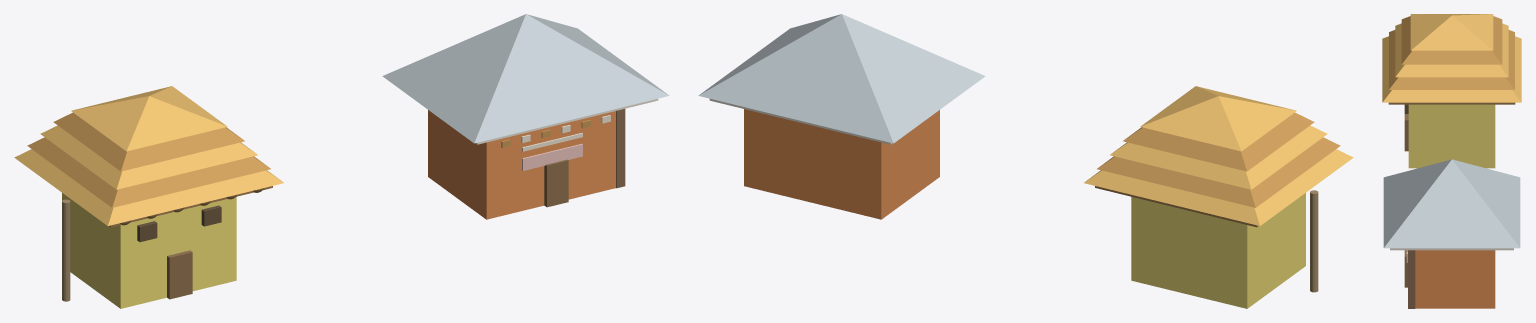
File: CasasCasilla52y69.glb
3 renders of one model, left to right at view 1: azimuth 30°, elevation 25°; view 2: azimuth 150°, elevation 25°; view 3: azimuth 270°, elevation 25°, orthographic. The views are drawn at different scales.
Parts seen in each view (by area): view 1: Casa2_Techo, Casa1_Paredes, Casa2_Paredes, Casa1_Techo_Cumbrera, Casa1_Techo_Capa0, Casa1_Techo_Capa1, Casa1_Techo_Capa2, Casa1_Techo_Capa3, Casa1_Puerta, Casa2_Puerta, Casa1_Poste, Casa2_FranjaRosa (+2 smaller); view 2: Casa2_Techo, Casa2_Paredes, Casa1_Paredes, Casa1_Techo_Cumbrera, Casa1_Techo_Capa0, Casa1_Techo_Capa1, Casa1_Techo_Capa2, Casa1_Techo_Capa3, Casa1_Poste, Casa2_Alero; view 3: Casa2_Techo, Casa1_Paredes, Casa2_Paredes, Casa1_Techo_Cumbrera, Casa1_Techo_Capa0, Casa1_Techo_Capa1, Casa1_Techo_Capa3, Casa1_Techo_Capa2, Casa2_Marco, Casa1_Fascia, Casa2_Alero, Casa1_Puerta (+1 smaller).
Boxes of the visible parts, x1,y1,x2,y2 form: Casa2_Techo: (382, 14, 669, 143); Casa1_Paredes: (62, 193, 236, 308); Casa2_Paredes: (428, 110, 615, 219); Casa1_Techo_Cumbrera: (71, 86, 227, 151); Casa1_Techo_Capa0: (14, 149, 283, 225); Casa1_Techo_Capa1: (27, 137, 270, 207); Casa1_Techo_Capa2: (40, 125, 258, 189); Casa1_Techo_Capa3: (53, 112, 244, 171); Casa1_Puerta: (167, 250, 192, 299); Casa2_Puerta: (544, 159, 568, 207); Casa1_Poste: (62, 199, 70, 301); Casa2_FranjaRosa: (522, 144, 582, 170); Casa2_Techo: (698, 14, 985, 143); Casa2_Paredes: (744, 109, 939, 219); Casa1_Paredes: (1131, 193, 1305, 308); Casa1_Techo_Cumbrera: (1140, 86, 1296, 151); Casa1_Techo_Capa0: (1084, 149, 1353, 225); Casa1_Techo_Capa1: (1097, 137, 1340, 207); Casa1_Techo_Capa2: (1109, 125, 1327, 189); Casa1_Techo_Capa3: (1123, 112, 1314, 171); Casa1_Poste: (1310, 190, 1318, 292); Casa2_Alero: (709, 99, 892, 144); Casa2_Techo: (1383, 159, 1520, 248); Casa1_Paredes: (1408, 104, 1495, 168); Casa2_Paredes: (1415, 250, 1495, 308); Casa1_Techo_Cumbrera: (1410, 14, 1493, 50); Casa1_Techo_Capa0: (1382, 36, 1521, 102); Casa1_Techo_Capa1: (1389, 30, 1514, 89); Casa1_Techo_Capa3: (1401, 16, 1502, 64); Casa1_Techo_Capa2: (1395, 23, 1508, 77); Casa2_Marco: (1408, 250, 1415, 308); Casa1_Fascia: (1388, 102, 1515, 104); Casa2_Alero: (1390, 248, 1513, 250); Casa1_Puerta: (1404, 114, 1408, 151).
Bounding box in the file's own units: 7.83 × 2.34 × 2.24.
